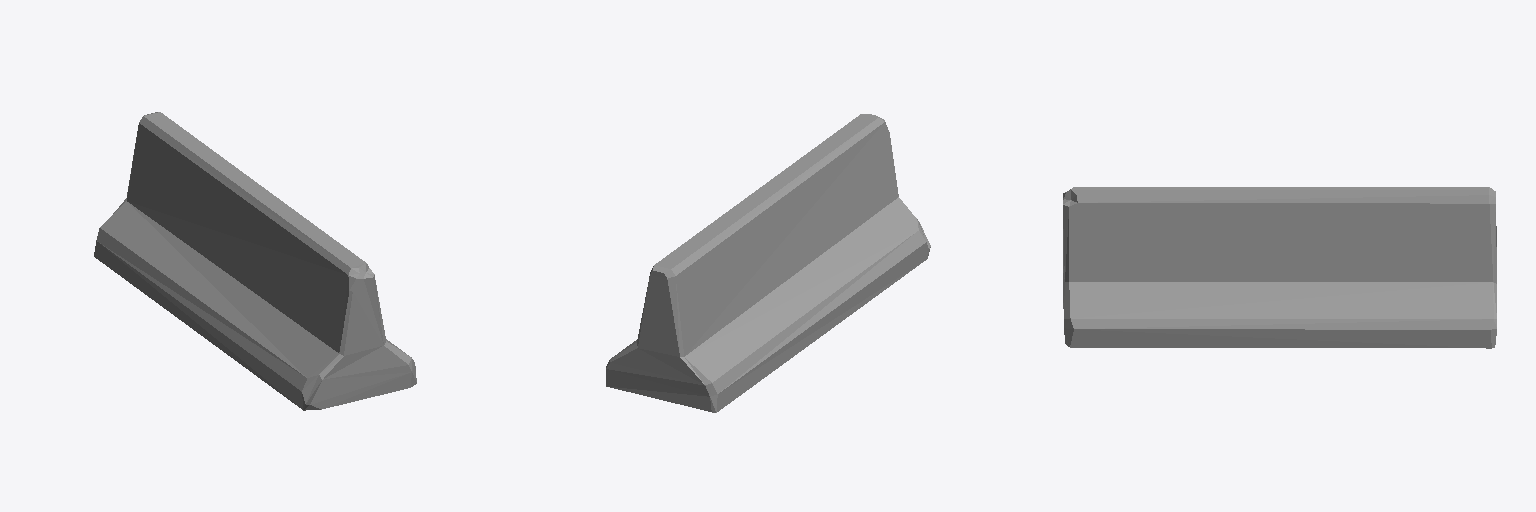
The model's file is cementdiv.obj.
3 views of the same model, side by side, from view 1: azimuth 30°, elevation 25°; view 2: azimuth 150°, elevation 25°; view 3: azimuth 270°, elevation 25° (orthographic).
Visible parts, largest first — view 1: default001; view 2: default001; view 3: default001.
Part boxes in pixels (x1,y1,x2,y2): default001: (94, 112, 416, 410); default001: (606, 114, 930, 412); default001: (1063, 187, 1496, 348).
Bounding box in the file's own units: 3.42 × 3.79 × 11.41.